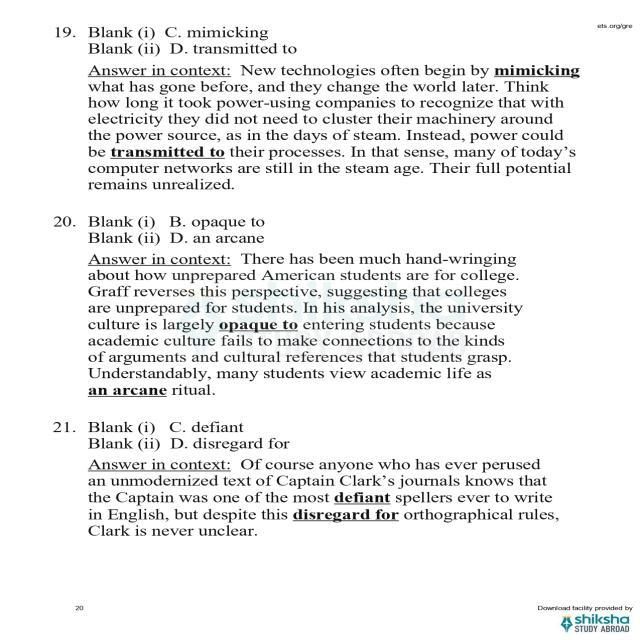Question_Paper_Area: (26, 6, 591, 574)
